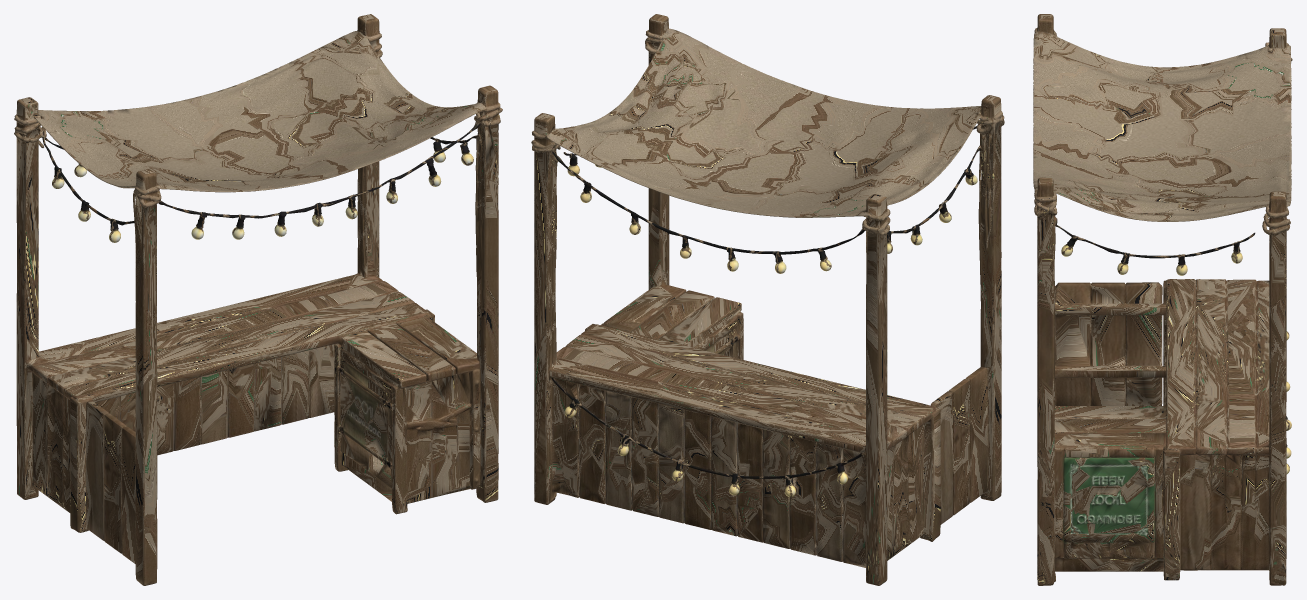
Rendered from stall.glb.
3 views of the same model, side by side, from view 1: azimuth 30°, elevation 25°; view 2: azimuth 150°, elevation 25°; view 3: azimuth 270°, elevation 25° (orthographic). The views are drawn at different scales.
Size of the model in its own units: 1.77 by 1.9 by 1.11.
1 material, 1 textured.
